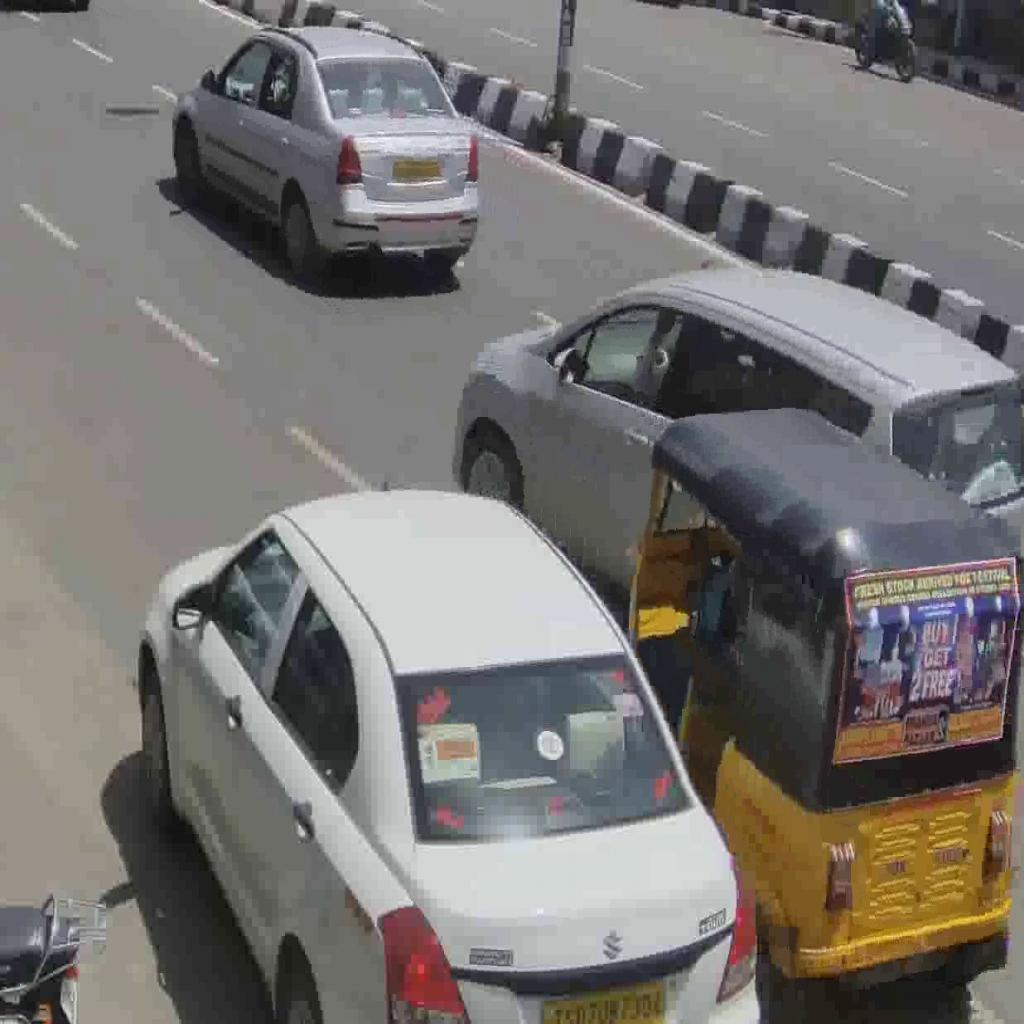noise: (854, 0, 918, 80)
